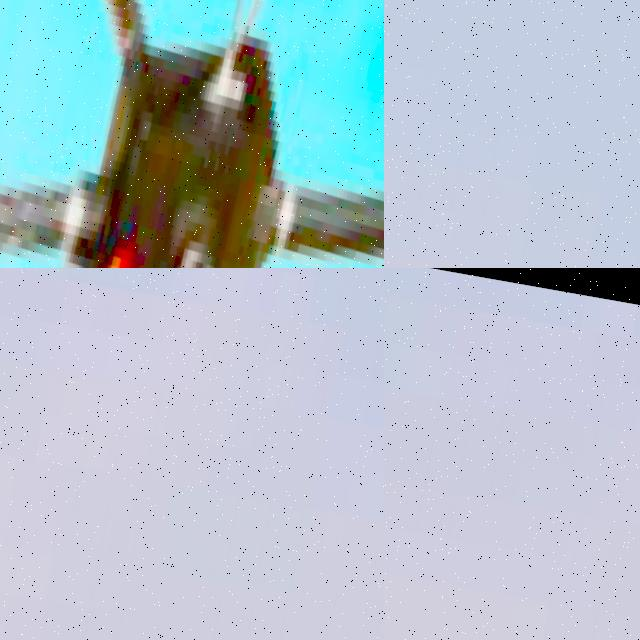drone: (0, 0, 384, 268)
